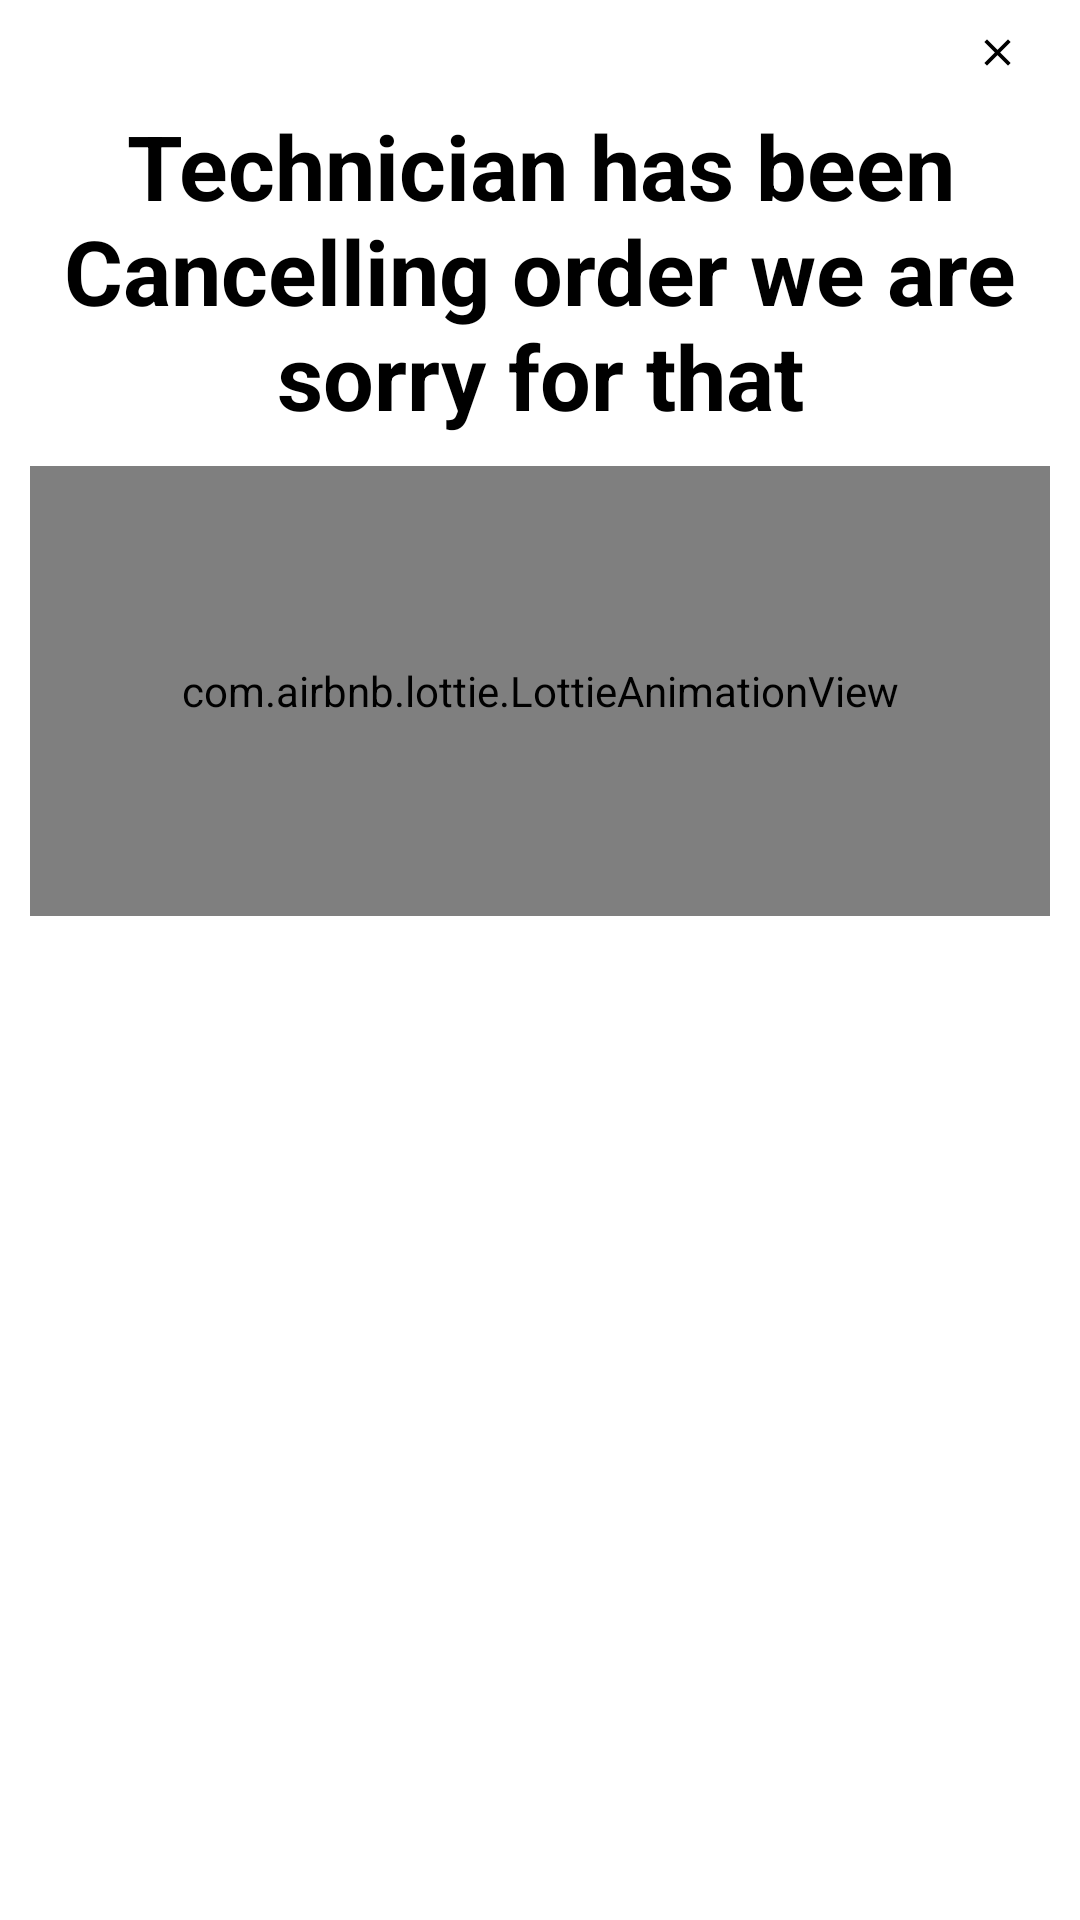

Named icons in this screenshot (1080px×1920px) and their bounding boxes, (x1, y1, x2, y2):
close 24black: (984, 39, 1011, 66)
